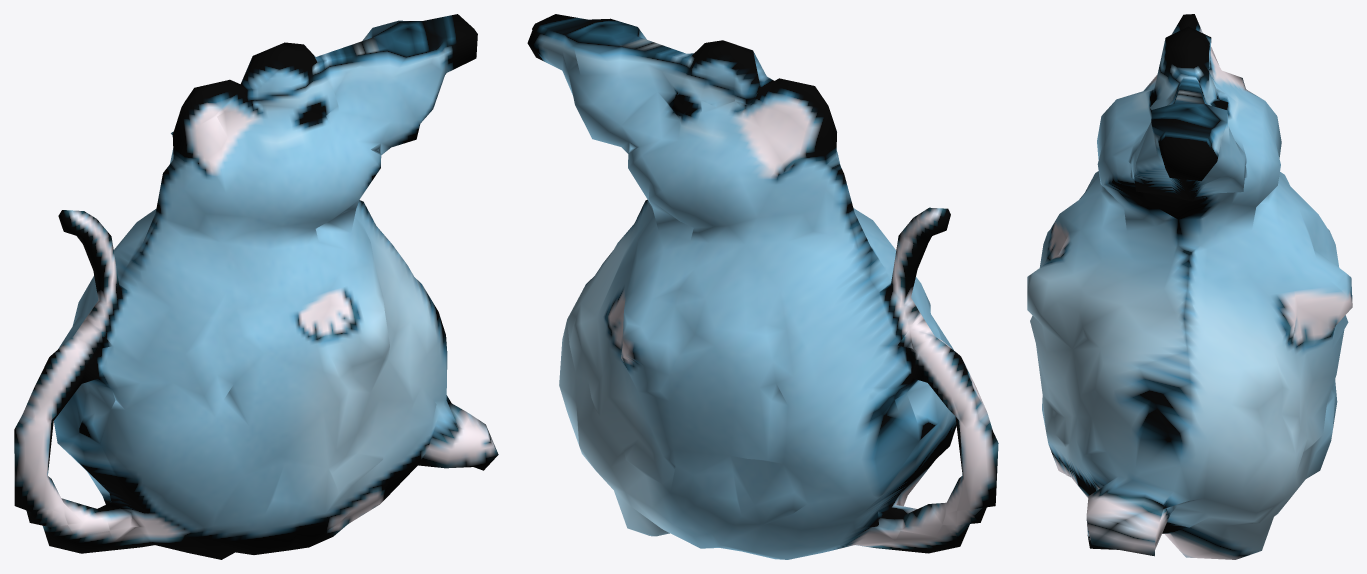
The model's file is ratrick.fbx.
3 renders of one model, left to right at view 1: azimuth 30°, elevation 25°; view 2: azimuth 150°, elevation 25°; view 3: azimuth 270°, elevation 25°, orthographic. The views are drawn at different scales.
Visible parts, largest first — view 1: ratrick; view 2: ratrick; view 3: ratrick.
Boxes of the visible parts, x1,y1,x2,y2 form: ratrick: (14, 14, 498, 559); ratrick: (527, 14, 998, 559); ratrick: (1027, 14, 1352, 559).
Bounding box in the file's own units: 993 × 996 × 590.
1 material, 1 textured.
